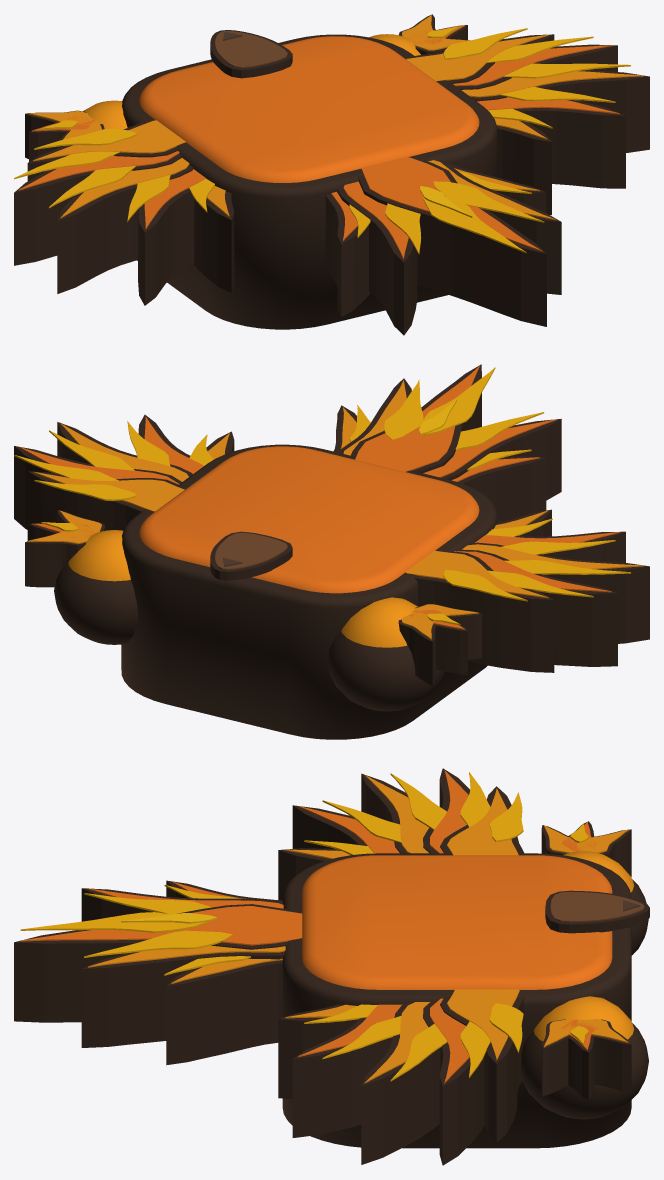
File: body_fenix.fbx
3 renders of one model, top to bottom at view 1: azimuth 30°, elevation 25°; view 2: azimuth 150°, elevation 25°; view 3: azimuth 270°, elevation 25°, orthographic. The views are drawn at different scales.
Visible parts, largest first — view 1: body_fenix_corpo, body_fenix_mao_esq, body_fenix_mao, body_fenix_corpo_neon; view 2: body_fenix_corpo, body_fenix_mao_esq, body_fenix_mao; view 3: body_fenix_corpo, body_fenix_mao, body_fenix_mao_esq, body_fenix_corpo_neon.
Boxes of the visible parts, x1=… form: body_fenix_corpo: x1=14, y1=28, x2=649, y2=335; body_fenix_mao_esq: x1=25, y1=100, x2=127, y2=161; body_fenix_mao: x1=369, y1=14, x2=470, y2=55; body_fenix_corpo_neon: x1=420, y1=186, x2=472, y2=217; body_fenix_corpo: x1=14, y1=364, x2=649, y2=739; body_fenix_mao_esq: x1=327, y1=597, x2=482, y2=711; body_fenix_mao: x1=25, y1=510, x2=137, y2=644; body_fenix_corpo: x1=14, y1=768, x2=649, y2=1165; body_fenix_mao: x1=520, y1=996, x2=648, y2=1119; body_fenix_mao_esq: x1=541, y1=821, x2=648, y2=955; body_fenix_corpo_neon: x1=121, y1=913, x2=216, y2=923.
Bounding box in the file's own units: 8.64 × 2.14 × 7.29.
Materials: 1 (1 with a texture image).
